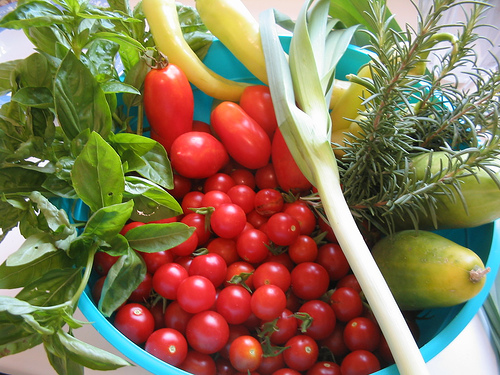cucumber: (369, 220, 488, 307), (399, 142, 497, 229)
